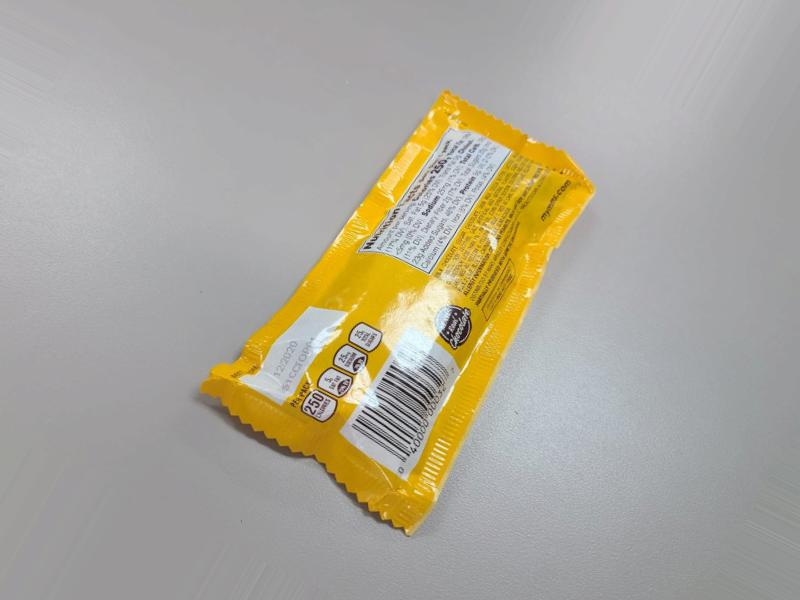m&m: (186, 163, 629, 561)
